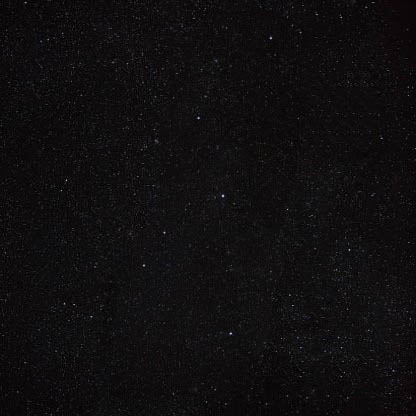Cassiopeia: (129, 226, 171, 272), (254, 28, 291, 64), (184, 109, 214, 138), (212, 184, 238, 210), (220, 318, 240, 343)
